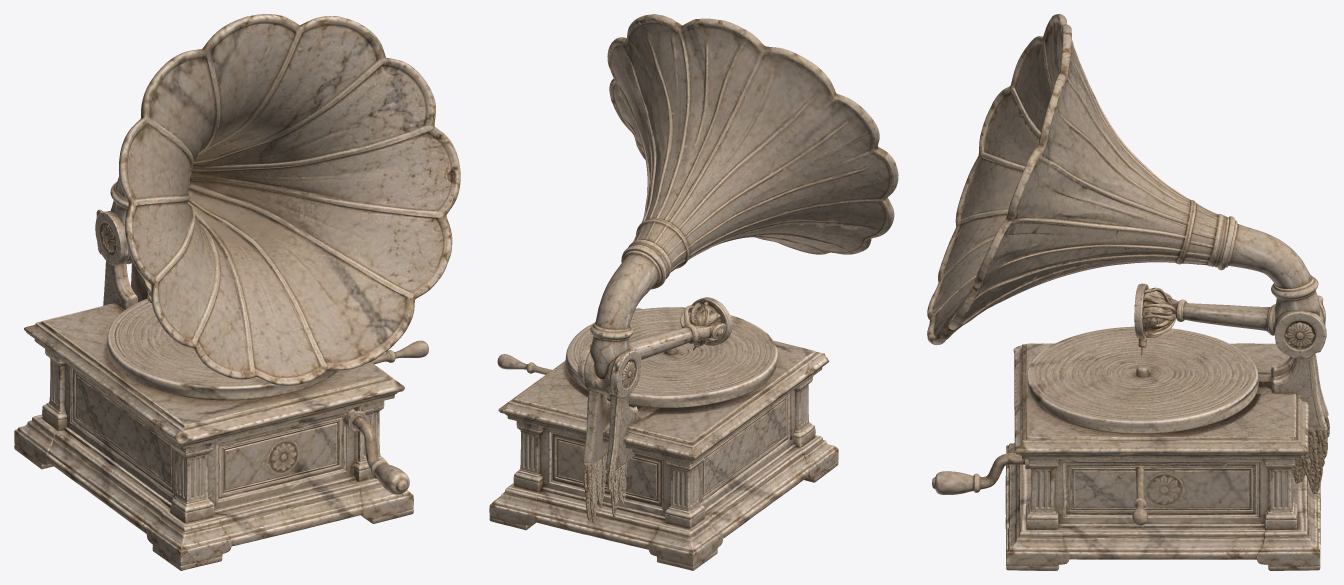
The model's file is podcast-banner.glb.
3 views of the same model, side by side, from view 1: azimuth 30°, elevation 25°; view 2: azimuth 150°, elevation 25°; view 3: azimuth 270°, elevation 25° (orthographic). The views are drawn at different scales.
Bounding box in the file's own units: 1.48 × 1.9 × 1.45.
Materials: 1 (1 with a texture image).
